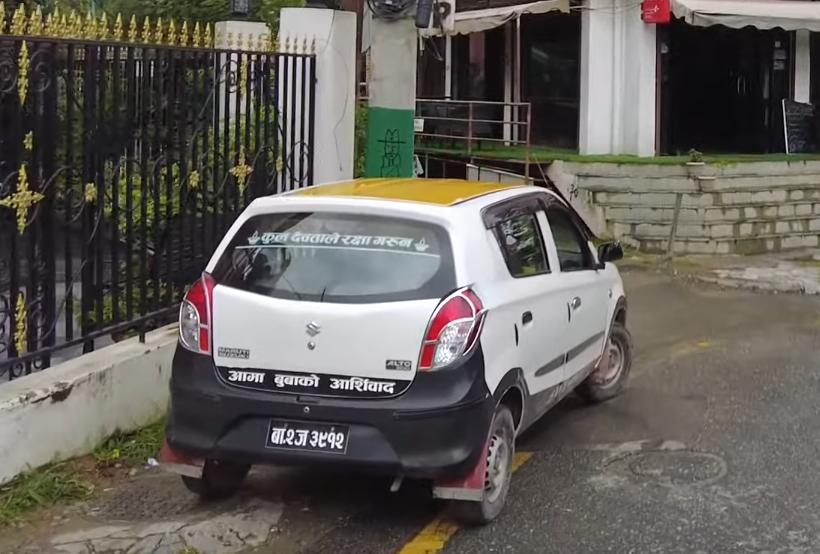taxi: (153, 167, 641, 530)
